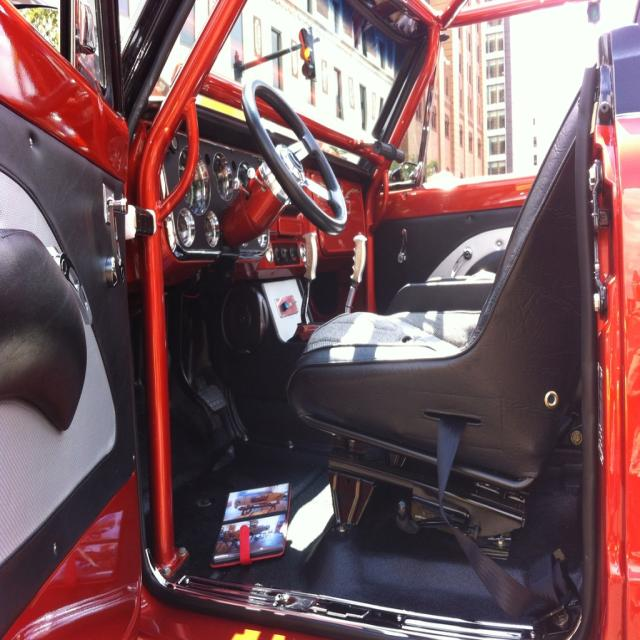car: (81, 0, 607, 614)
